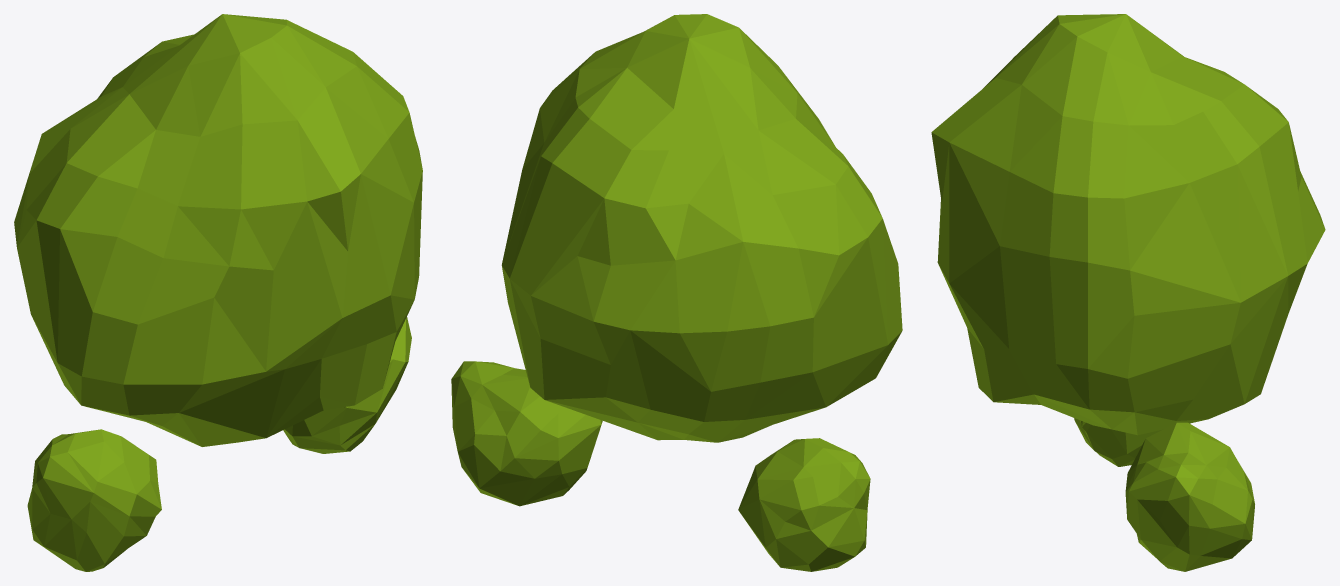
File: tree-summer-leaves-3-047.glb
3 views of the same model, side by side, from view 1: azimuth 30°, elevation 25°; view 2: azimuth 150°, elevation 25°; view 3: azimuth 270°, elevation 25° (orthographic). The views are drawn at different scales.
Parts seen in each view (by area): view 1: TREE 3_293; view 2: TREE 3_293; view 3: TREE 3_293.
Part boxes in pixels (box(x1,y1,x2,y2)): TREE 3_293: box(14, 14, 422, 571); TREE 3_293: box(451, 14, 902, 571); TREE 3_293: box(931, 14, 1325, 571).
Size of the model in its own units: 1.04 by 1.29 by 0.8969.
